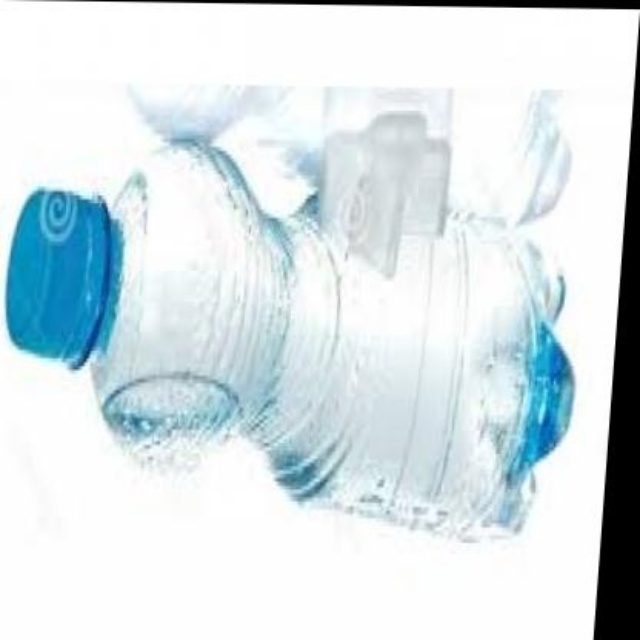trash: (6, 85, 572, 537)
